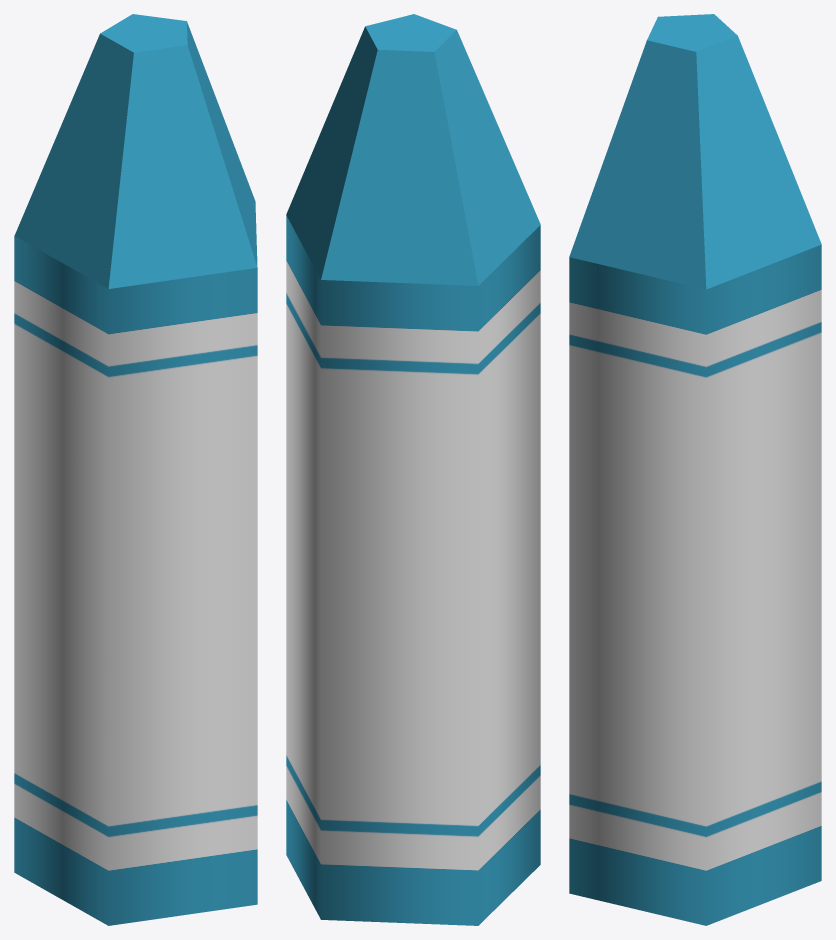
The model's file is Crepas_Sky Blue.fbx.
3 renders of one model, left to right at view 1: azimuth 30°, elevation 25°; view 2: azimuth 150°, elevation 25°; view 3: azimuth 270°, elevation 25°, orthographic.
Parts seen in each view (by area): view 1: Sky Blue; view 2: Sky Blue; view 3: Sky Blue.
Boxes of the visible parts, x1,y1,x2,y2 form: Sky Blue: (14,14,257,925); Sky Blue: (286,14,540,925); Sky Blue: (569,14,821,925).
Bounding box in the file's own units: 8.36 × 30.99 × 8.46.
1 material, 1 textured.
